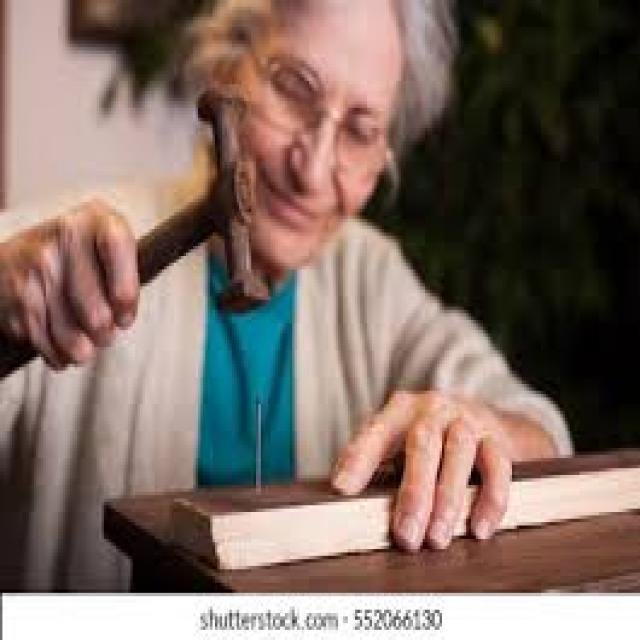hammer: (0, 70, 283, 390)
